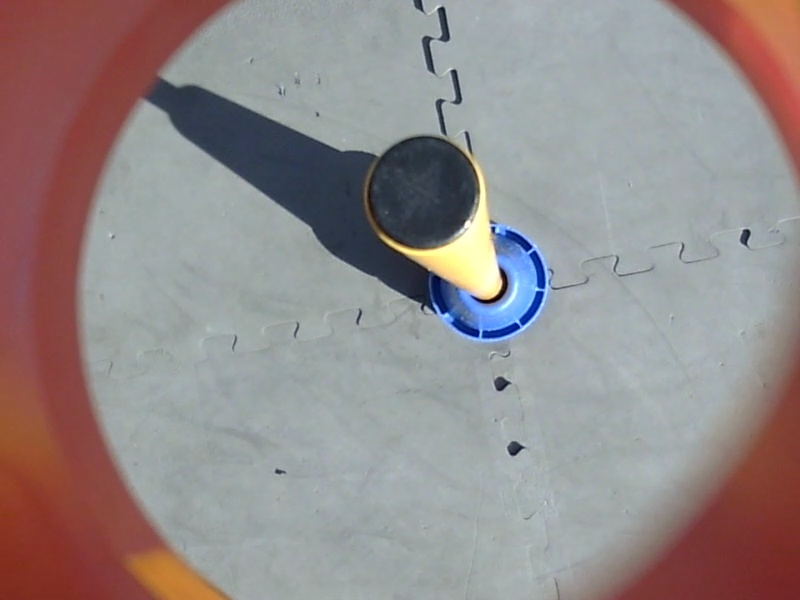tip: (357, 128, 491, 262)
